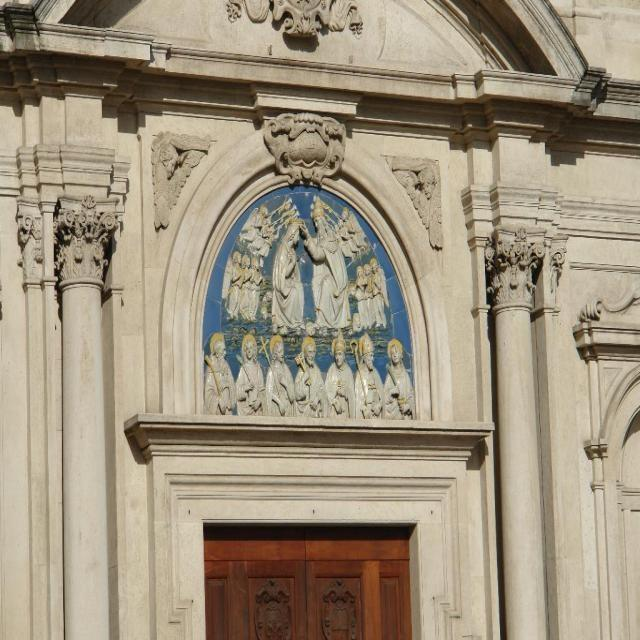door: (200, 513, 422, 640)
